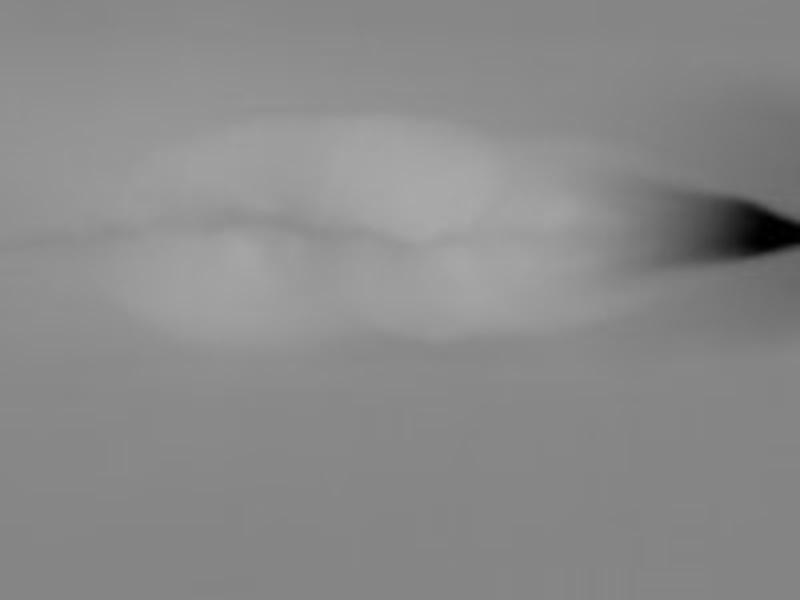defect: (663, 189, 798, 268)
